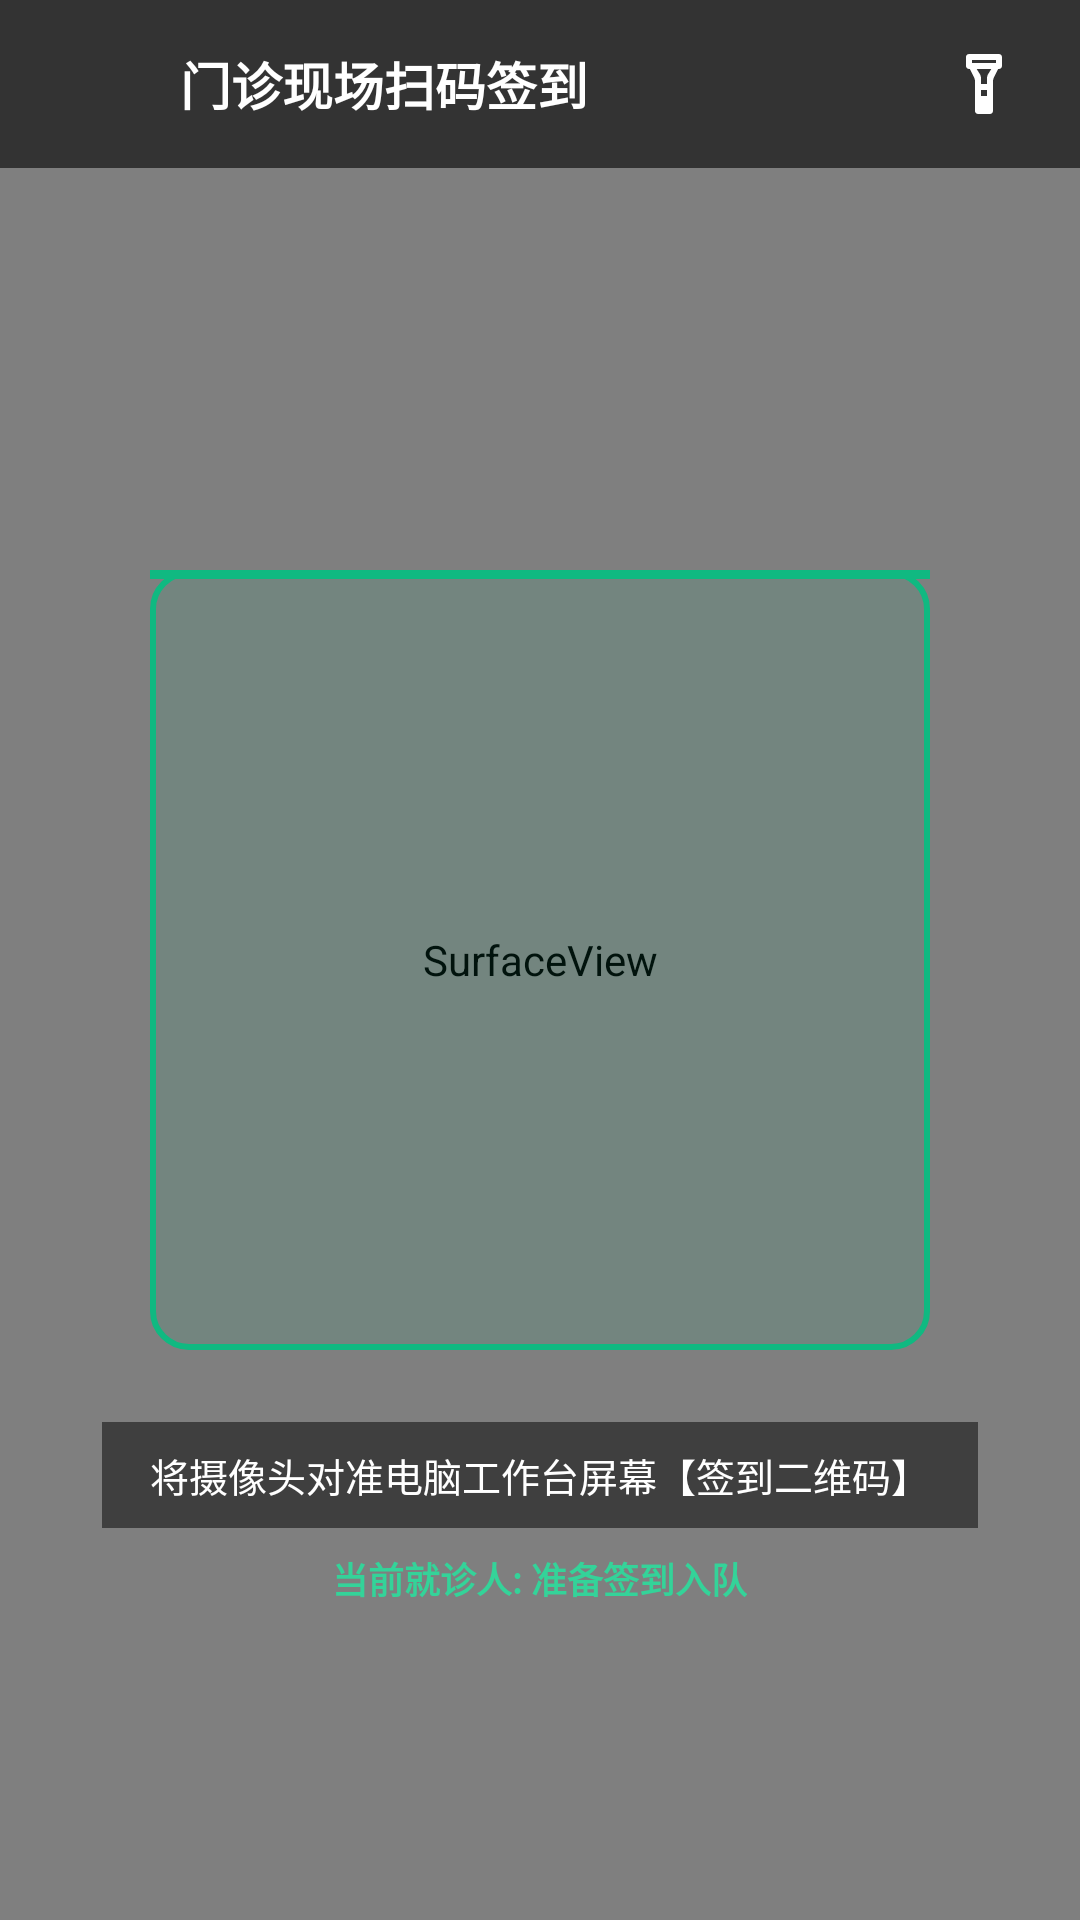

Named icons in this screenshot (1080x1920) and their bounding boxes, Rect(x1, y1, x2, y2):
手电筒: Rect(966, 54, 1002, 114)
